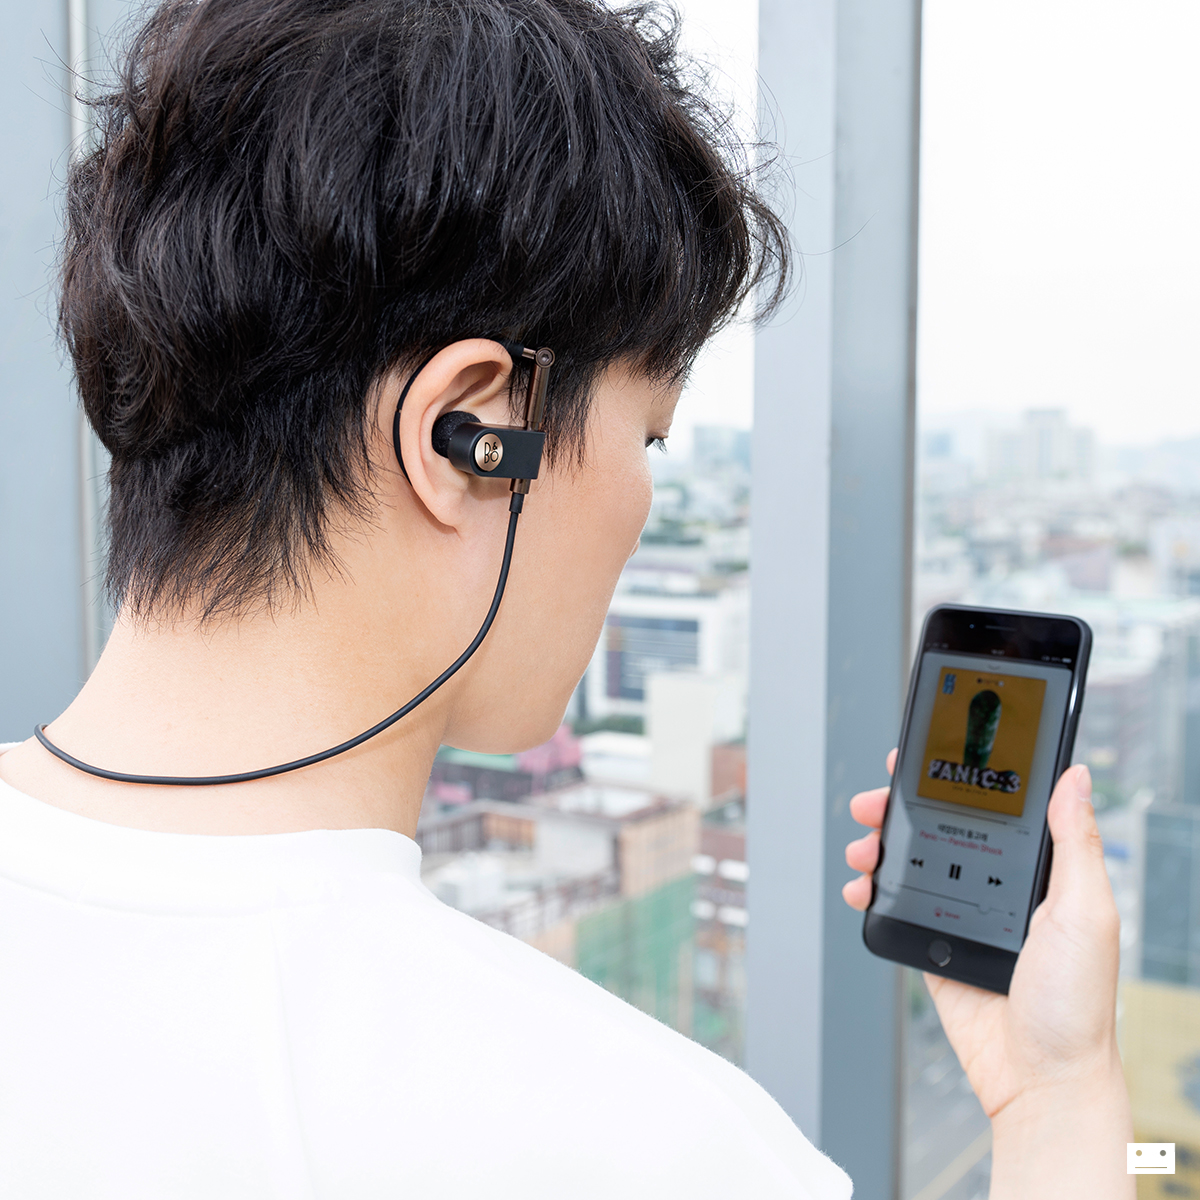earphone: (398, 338, 515, 533)
